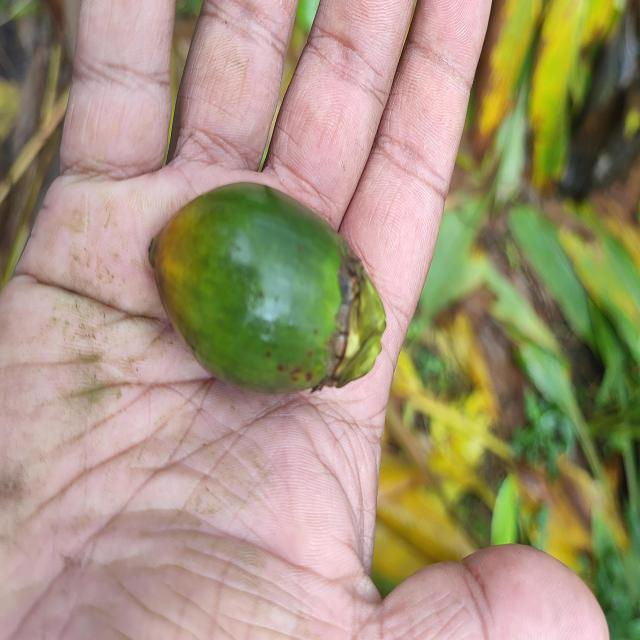damaged: (141, 179, 390, 396)
